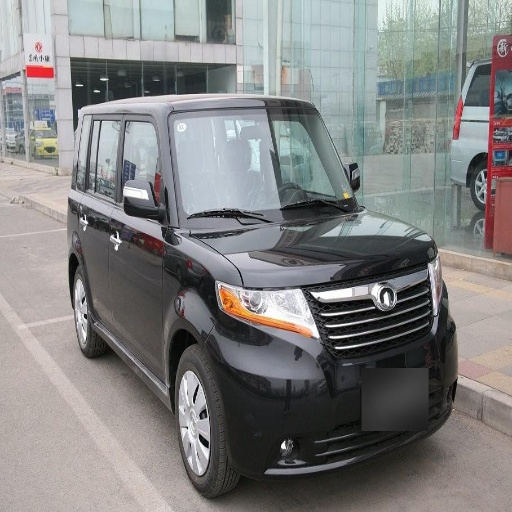front_bumper: (219, 261, 457, 472)
front_right_door: (110, 117, 164, 372)
front_right_light: (219, 283, 318, 337)
hood: (189, 205, 434, 285)
